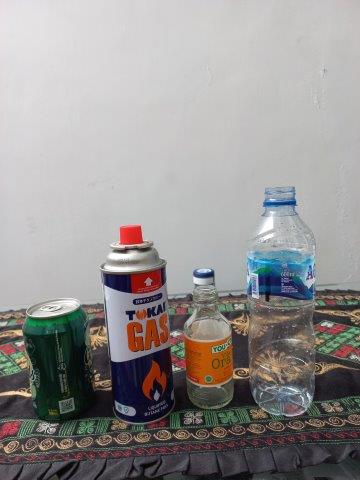botolkaca: (184, 286, 235, 409)
botolplastik: (247, 190, 317, 417)
kaleng: (100, 225, 173, 423), (23, 297, 92, 419)
